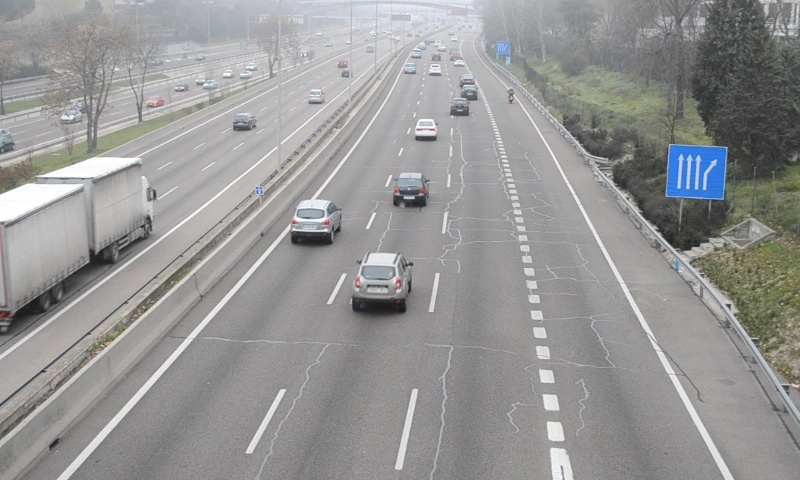car: (352, 252, 413, 300), (292, 200, 342, 236), (393, 172, 428, 205), (415, 117, 438, 138), (450, 97, 470, 116)
motorcycle: (506, 86, 516, 104)
